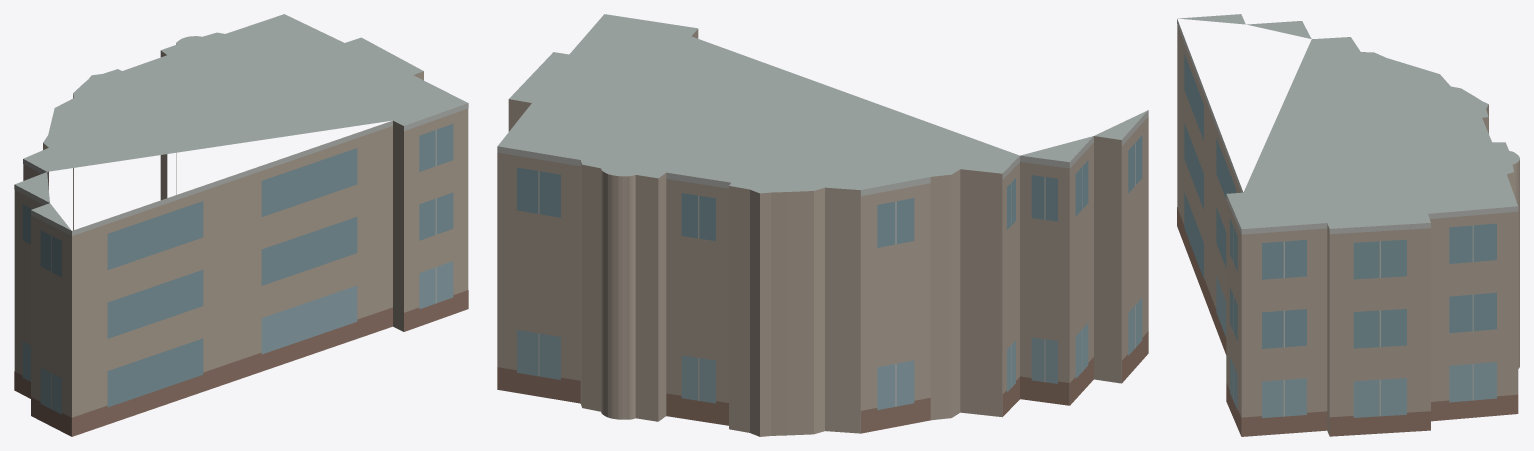
The model's file is survey-upis-32770273.glb.
3 views of the same model, side by side, from view 1: azimuth 30°, elevation 25°; view 2: azimuth 150°, elevation 25°; view 3: azimuth 270°, elevation 25° (orthographic). The views are drawn at different scales.
Parts seen in each view (by area): view 1: survey-upis-32770273.tmp; view 2: survey-upis-32770273.tmp; view 3: survey-upis-32770273.tmp.
Boxes of the visible parts, left/top/right/bottom form: survey-upis-32770273.tmp: left=14, top=14, right=468, bottom=436; survey-upis-32770273.tmp: left=497, top=14, right=1148, bottom=436; survey-upis-32770273.tmp: left=1177, top=14, right=1519, bottom=436.
Size of the model in its own units: 21.13 by 9.5 by 14.22.
